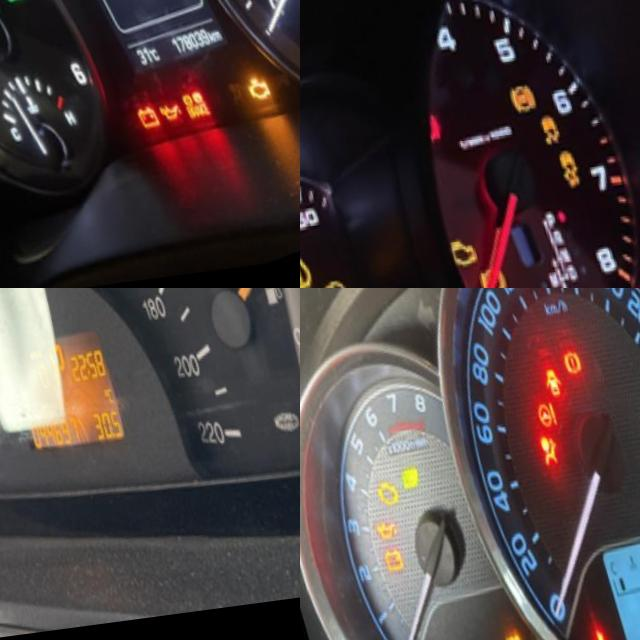Doors: (532, 372, 557, 410)
Engine cooling system: (565, 628, 593, 640)
